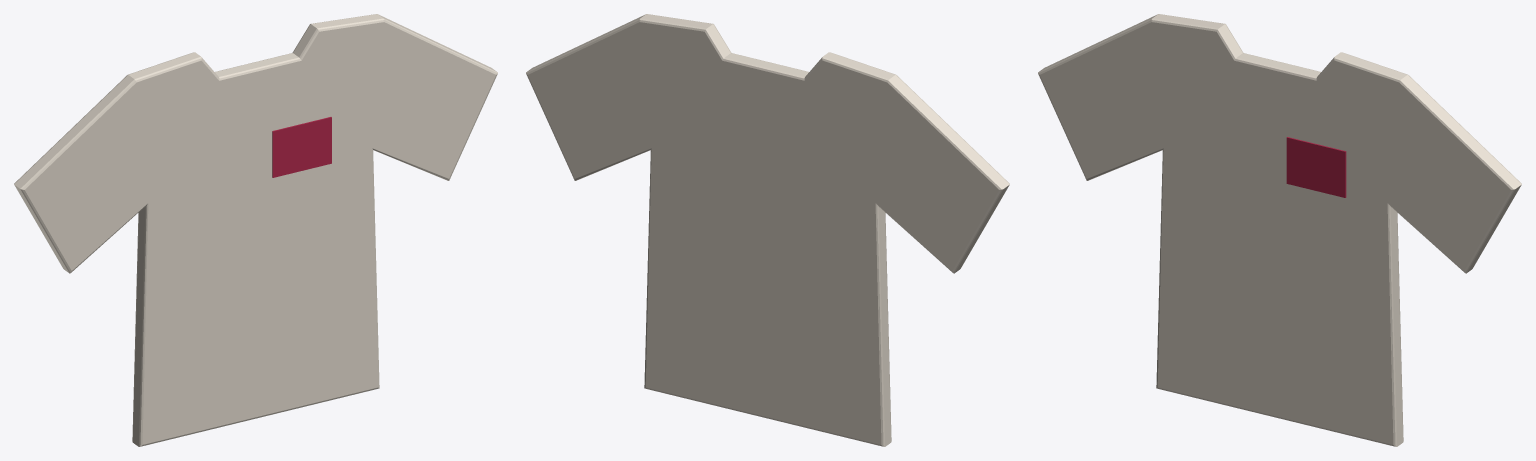
The model's file is tshirt.glb.
3 renders of one model, left to right at view 1: azimuth 30°, elevation 25°; view 2: azimuth 150°, elevation 25°; view 3: azimuth 330°, elevation 25°, orthographic.
Visible parts, largest first — view 1: DRAFT_tshirt; view 2: DRAFT_tshirt; view 3: DRAFT_tshirt.
Part boxes in pixels (left/top/right/bottom): DRAFT_tshirt: left=14, top=14, right=497, bottom=446; DRAFT_tshirt: left=526, top=14, right=1009, bottom=446; DRAFT_tshirt: left=1038, top=14, right=1521, bottom=446.
Size of the model in its own units: 0.8104 by 0.6081 by 0.0285.
